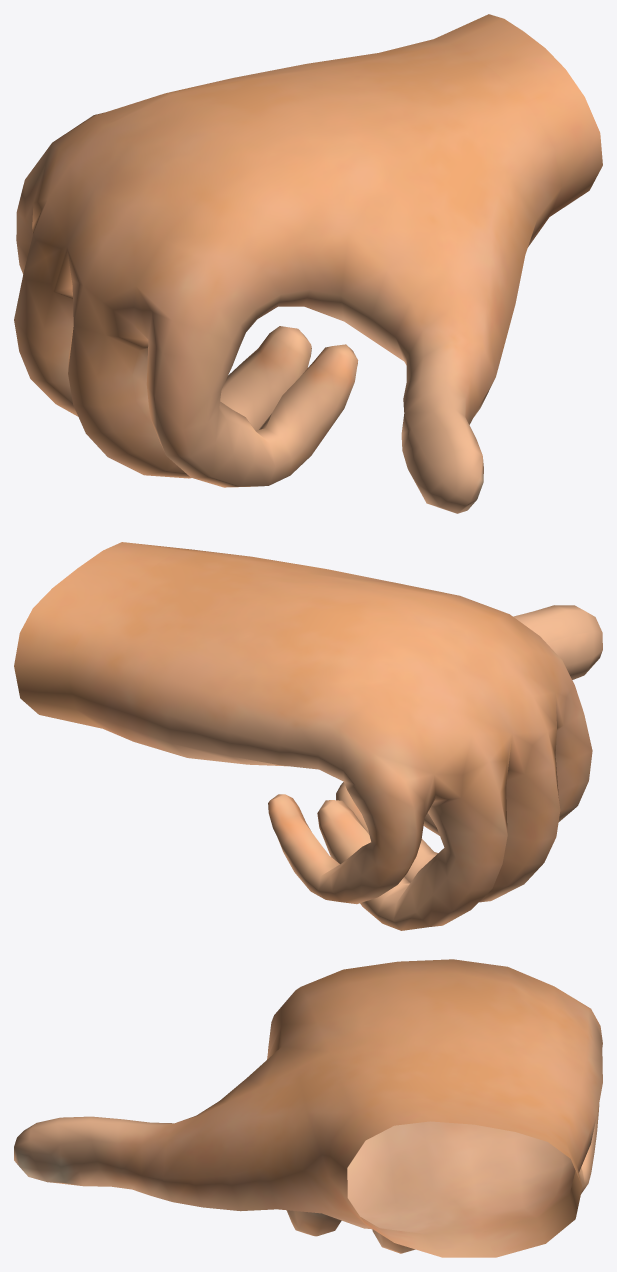
Rendered from H_grip_thumbup.fbx.
The picture shows the model from 3 angles, top to bottom: view 1: azimuth 30°, elevation 25°; view 2: azimuth 150°, elevation 25°; view 3: azimuth 270°, elevation 25°; orthographic projection. The views are drawn at different scales.
Visible parts, largest first — view 1: H_grip_thumbup; view 2: H_grip_thumbup; view 3: H_grip_thumbup.
Boxes of the visible parts, left/top/right/bottom form: H_grip_thumbup: left=14, top=14, right=602, bottom=513; H_grip_thumbup: left=14, top=542, right=602, bottom=930; H_grip_thumbup: left=14, top=959, right=602, bottom=1257.
Size of the model in its own units: 13.12 by 8.22 by 15.16.
Materials: 1 (1 with a texture image).
